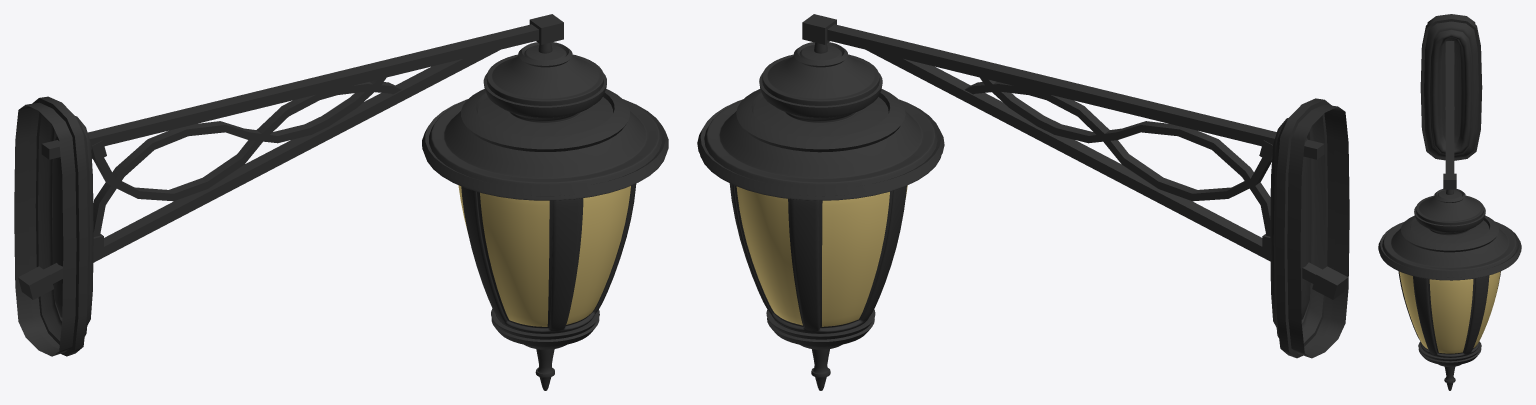
File: Lamp.fbx
3 views of the same model, side by side, from view 1: azimuth 30°, elevation 25°; view 2: azimuth 150°, elevation 25°; view 3: azimuth 270°, elevation 25° (orthographic). The views are drawn at different scales.
Visible parts, largest first — view 1: Lamp; view 2: Lamp; view 3: Lamp.
Boxes of the visible parts, x1,y1,x2,y2 form: Lamp: (14,14,668,390); Lamp: (697,14,1349,390); Lamp: (1378,14,1521,390).
Size of the model in its own units: 101 by 62.29 by 34.41.
